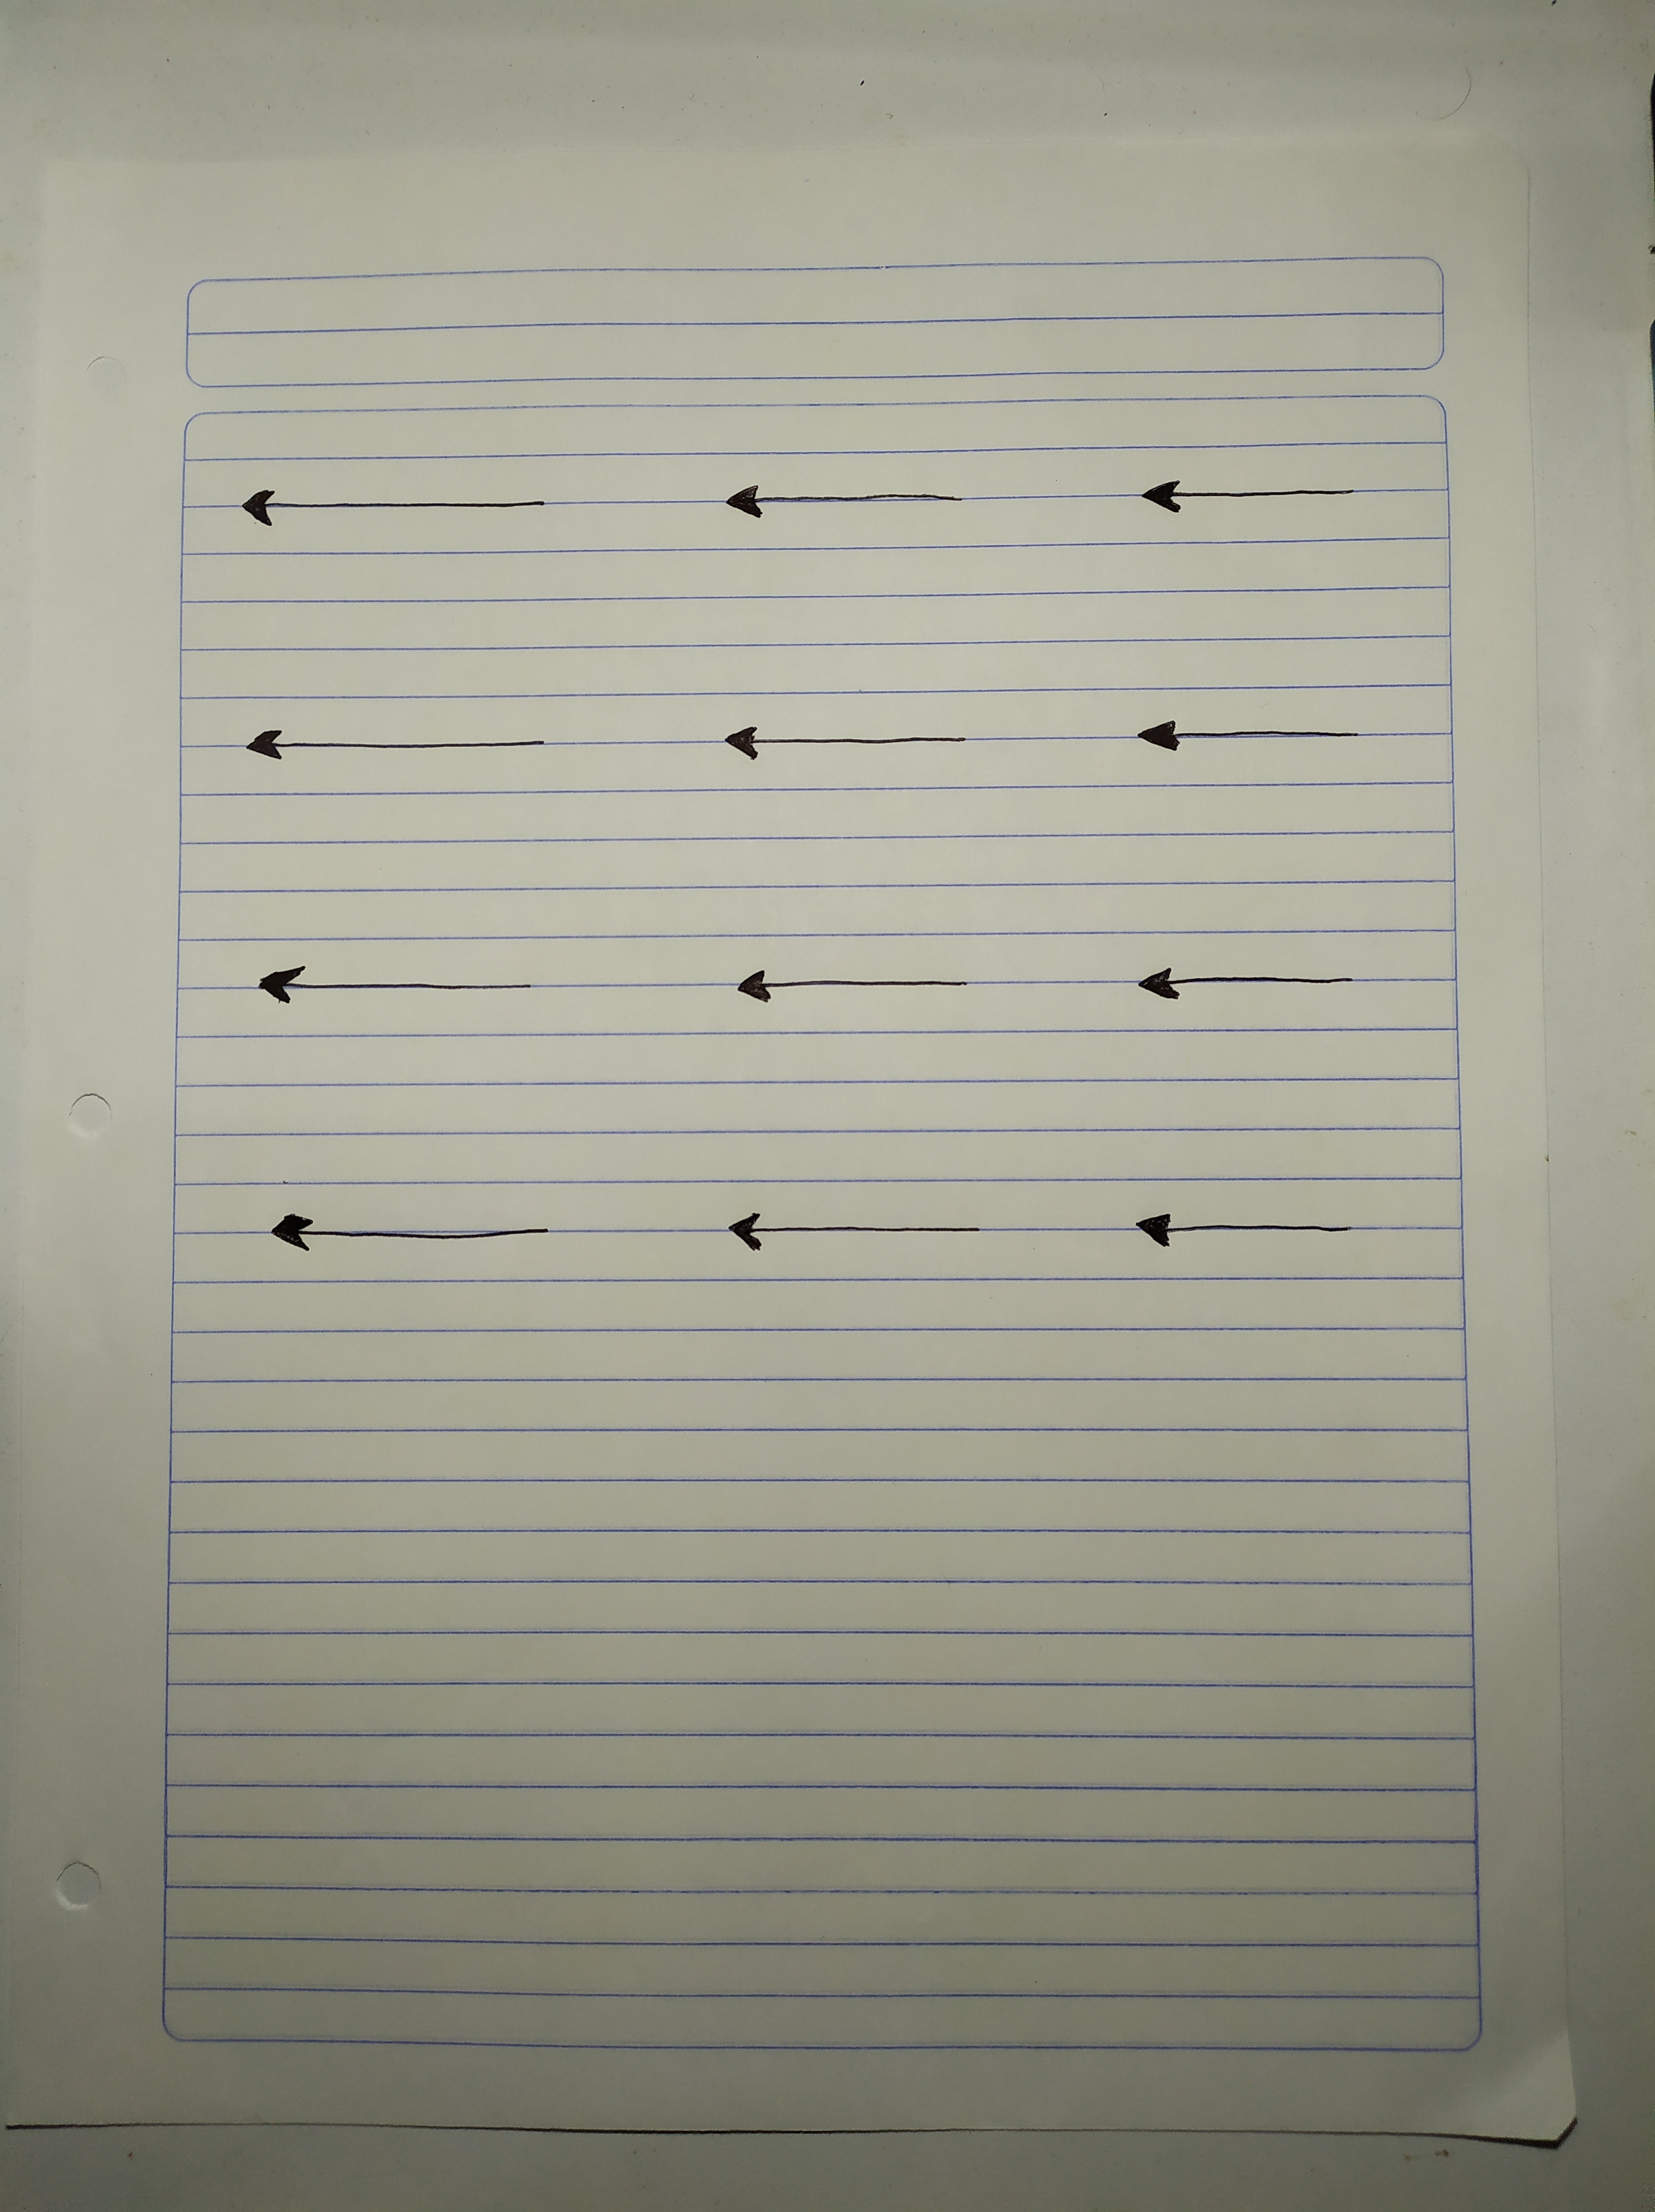arrow_line_left: (224, 457, 574, 556), (708, 1197, 1052, 1286), (224, 699, 560, 777), (673, 467, 1014, 542), (257, 1201, 575, 1281), (235, 956, 558, 1025), (699, 712, 993, 785), (1104, 1197, 1386, 1272), (1109, 460, 1396, 533), (1111, 709, 1387, 780), (709, 961, 1012, 1025), (1120, 947, 1386, 1020)
